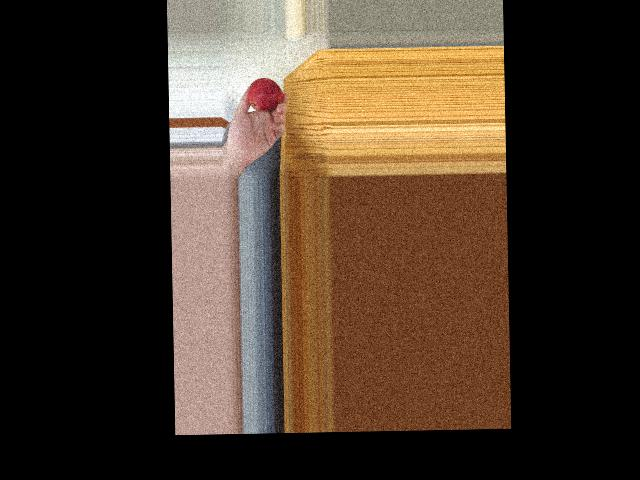apple: (246, 76, 282, 111)
